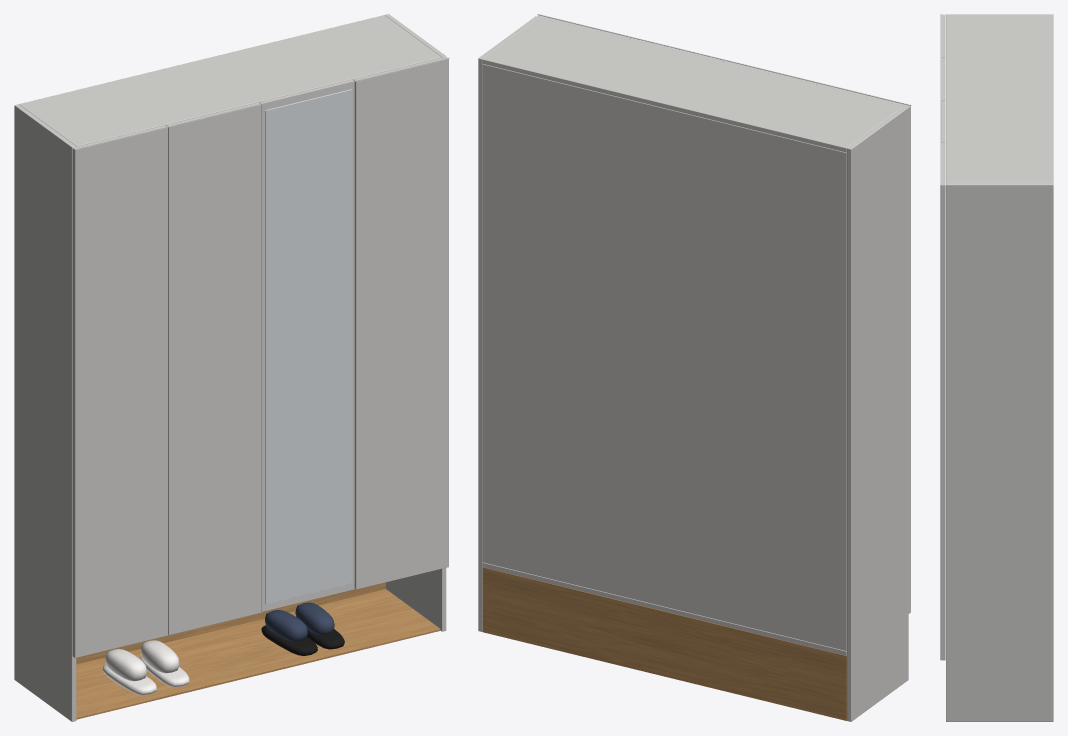
The model's file is shoe_cabinet.glb.
3 renders of one model, left to right at view 1: azimuth 30°, elevation 25°; view 2: azimuth 150°, elevation 25°; view 3: azimuth 270°, elevation 25°, orthographic. The views are drawn at different scales.
Visible parts, largest first — view 1: shoe_cabinet_doors, shoe_cabinet_carcass, shoe_cabinet_mirror, shoe_cabinet_niche, shoe_cabinet_shoes, shoe_cabinet_top_trim; view 2: shoe_cabinet_carcass, shoe_cabinet_niche, shoe_cabinet_doors, shoe_cabinet_top_trim; view 3: shoe_cabinet_carcass, shoe_cabinet_doors, shoe_cabinet_top_trim.
Part boxes in pixels (<box>): shoe_cabinet_doors: <box>72,57,448,658</box>; shoe_cabinet_carcass: <box>14,14,446,721</box>; shoe_cabinet_mirror: <box>265,89,352,604</box>; shoe_cabinet_niche: <box>76,582,440,719</box>; shoe_cabinet_shoes: <box>102,602,344,695</box>; shoe_cabinet_top_trim: <box>74,57,449,149</box>; shoe_cabinet_carcass: <box>478,16,908,721</box>; shoe_cabinet_niche: <box>482,567,846,720</box>; shoe_cabinet_doors: <box>537,15,910,613</box>; shoe_cabinet_top_trim: <box>537,14,911,105</box>; shoe_cabinet_carcass: <box>946,14,1053,721</box>; shoe_cabinet_doors: <box>940,14,945,660</box>; shoe_cabinet_top_trim: <box>940,14,941,185</box>.
Bounding box in the file's own units: 1.5 × 2.2 × 0.4205.
Materials: 8 (1 with a texture image).
